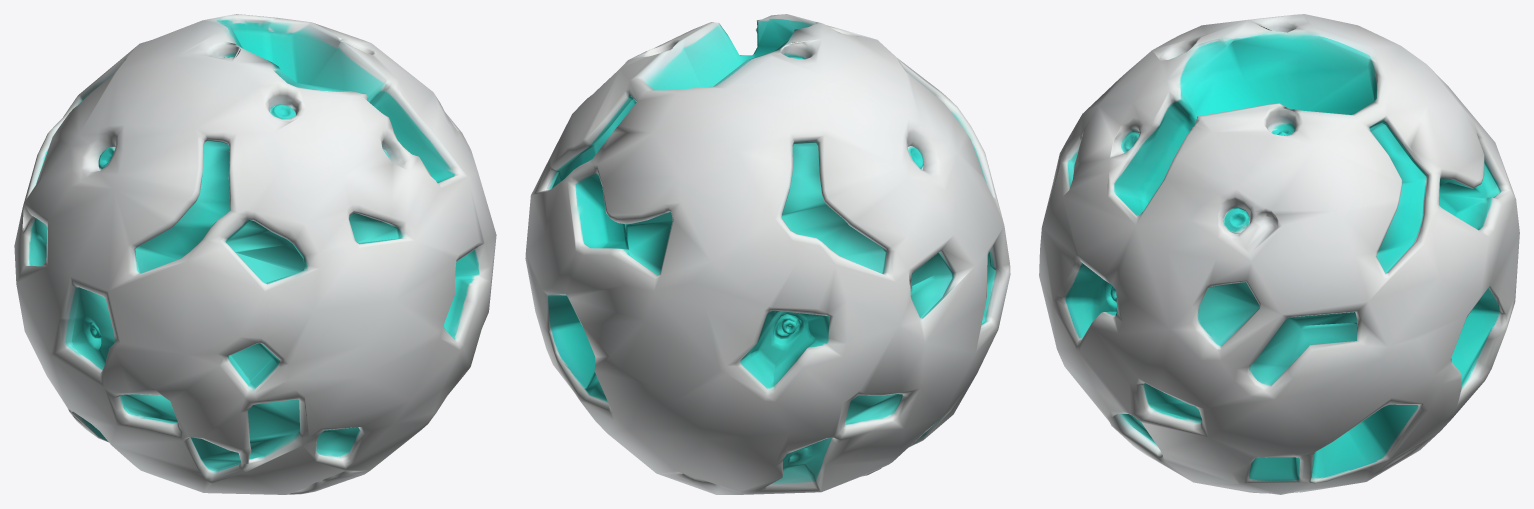
The model's file is spiral-smash-orb.glb.
3 renders of one model, left to right at view 1: azimuth 30°, elevation 25°; view 2: azimuth 150°, elevation 25°; view 3: azimuth 270°, elevation 25°, orthographic.
Visible parts, largest first — view 1: tripo_node_64ecd69a-ea28-495a-80c6-4358356fccfc; view 2: tripo_node_64ecd69a-ea28-495a-80c6-4358356fccfc; view 3: tripo_node_64ecd69a-ea28-495a-80c6-4358356fccfc.
Boxes of the visible parts, x1,y1,x2,y2 form: tripo_node_64ecd69a-ea28-495a-80c6-4358356fccfc: (14,14,496,494); tripo_node_64ecd69a-ea28-495a-80c6-4358356fccfc: (525,14,1010,494); tripo_node_64ecd69a-ea28-495a-80c6-4358356fccfc: (1039,14,1519,494).
Bounding box in the file's own units: 0.9961 × 1 × 1.
Materials: 1 (1 with a texture image).
